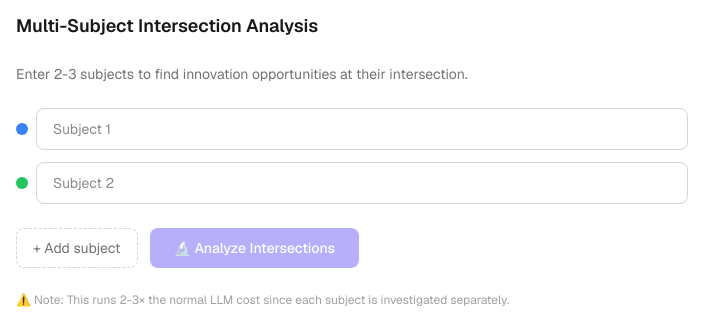
Scenario: IntersectionAnalysis › enables analyze button when 2 subjects are filled
Type "AI" into the field with placeholder "Subject 1" at (362, 129), box x1=36 y1=108 x2=688 y2=150
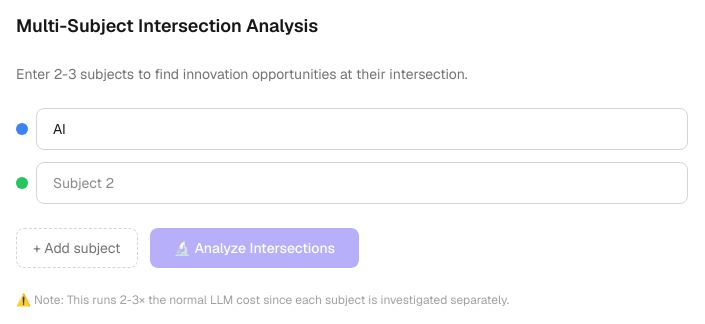
Type "Healthcare" into the field with placeholder "Subject 2" at (362, 183), box x1=36 y1=162 x2=688 y2=204
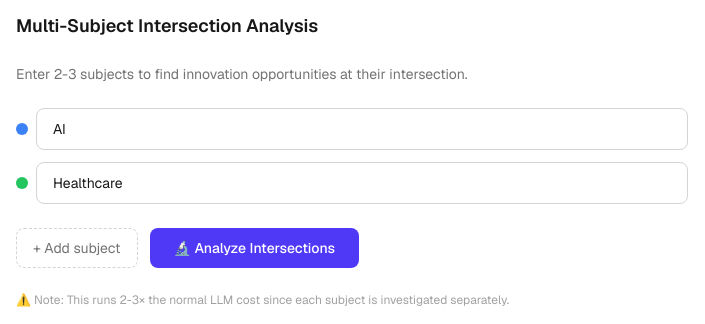
Check: the button "🔬 Analyze Intersections" is enabled, box x1=150 y1=228 x2=359 y2=268
